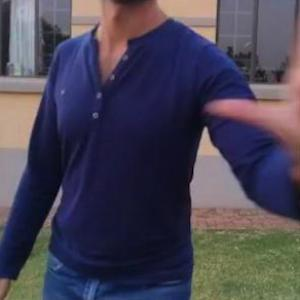land_hand: (201, 0, 300, 175)
